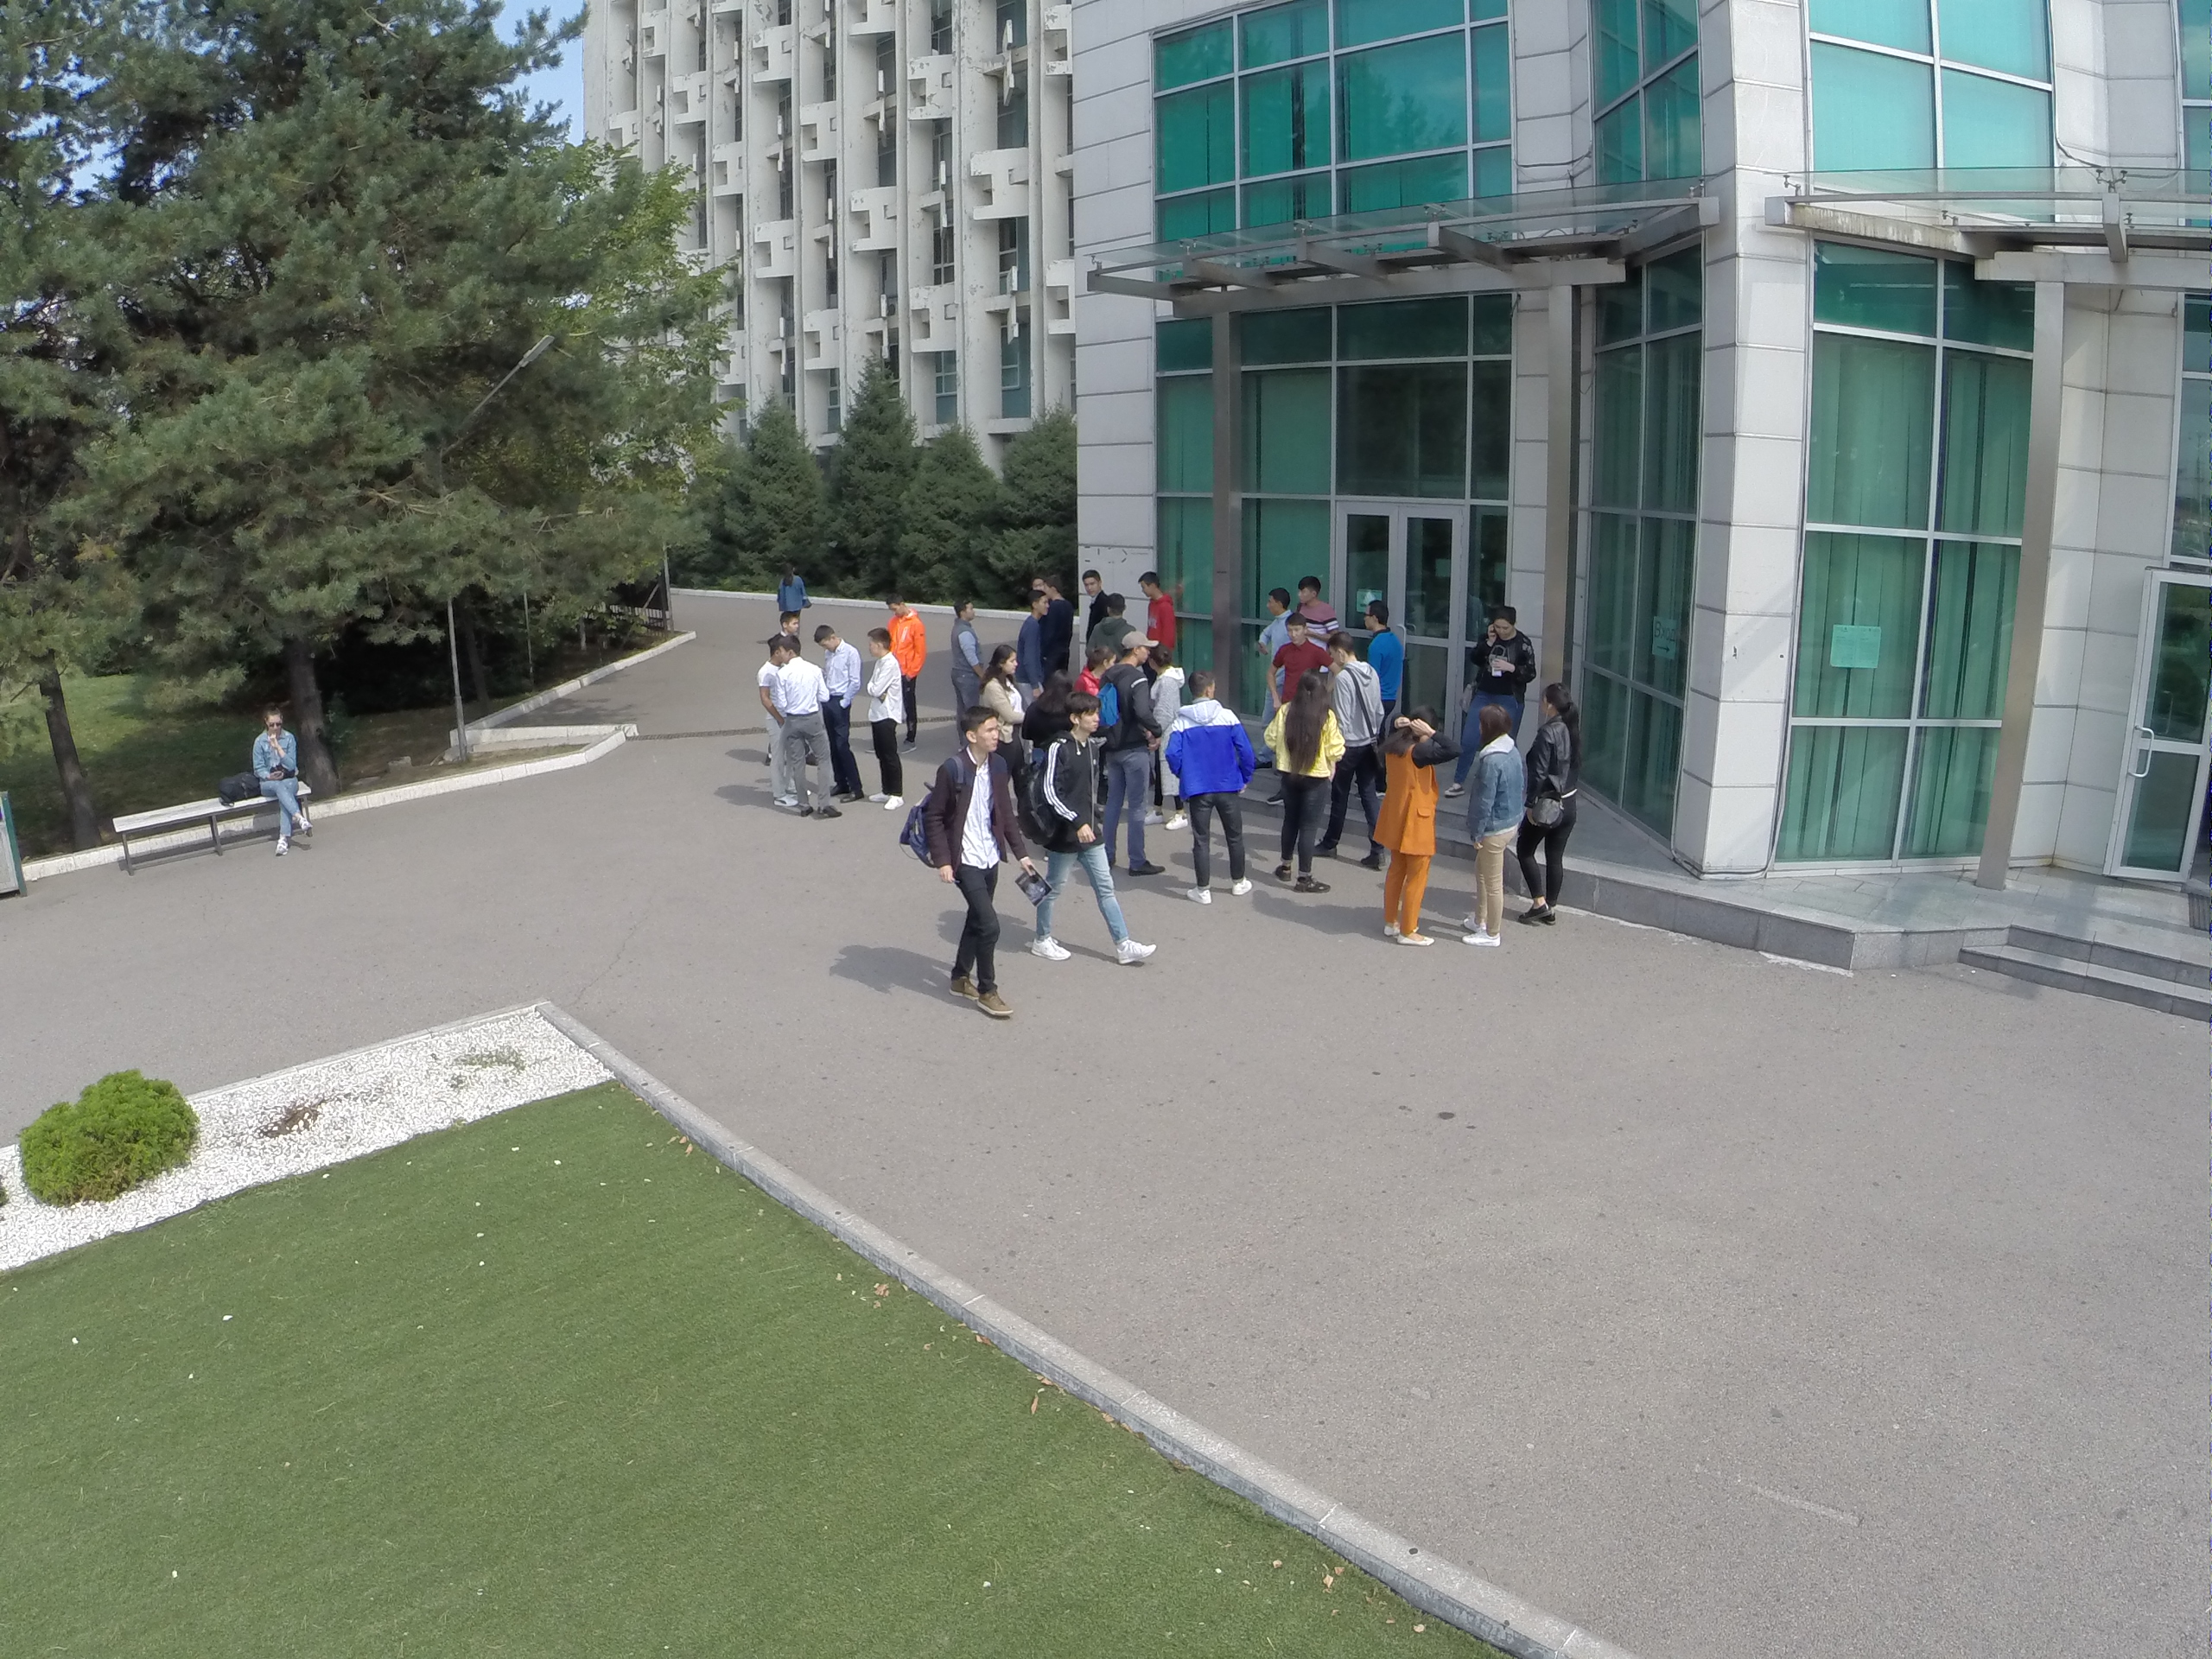person: (1027, 696, 1148, 973), (916, 705, 1012, 1028), (1174, 669, 1253, 905), (1372, 705, 1440, 956), (1515, 680, 1581, 926), (1264, 679, 1332, 893), (1467, 703, 1525, 945), (1109, 629, 1160, 878), (777, 639, 838, 821), (814, 620, 865, 809), (256, 704, 315, 859), (861, 626, 907, 814), (886, 592, 925, 756), (759, 634, 792, 809), (1467, 606, 1526, 700), (944, 593, 983, 706), (1363, 600, 1408, 690), (987, 647, 1027, 743), (1137, 569, 1174, 642), (1018, 589, 1046, 671), (773, 558, 807, 614), (1287, 617, 1320, 666), (1264, 580, 1285, 657), (1083, 572, 1108, 621), (1299, 574, 1325, 616)
